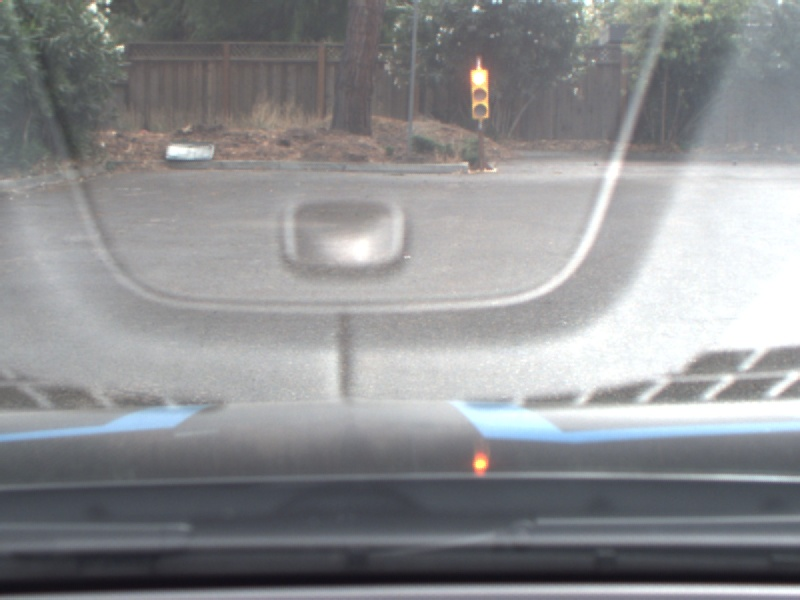red: (468, 63, 491, 120)
